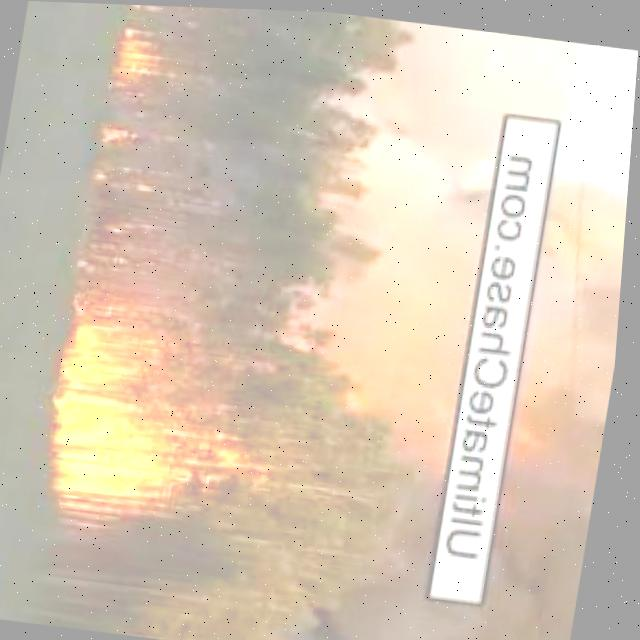Fire: (41, 296, 222, 525), (88, 118, 161, 195), (113, 15, 174, 86)
Smoke: (317, 14, 521, 430), (485, 157, 632, 640)
